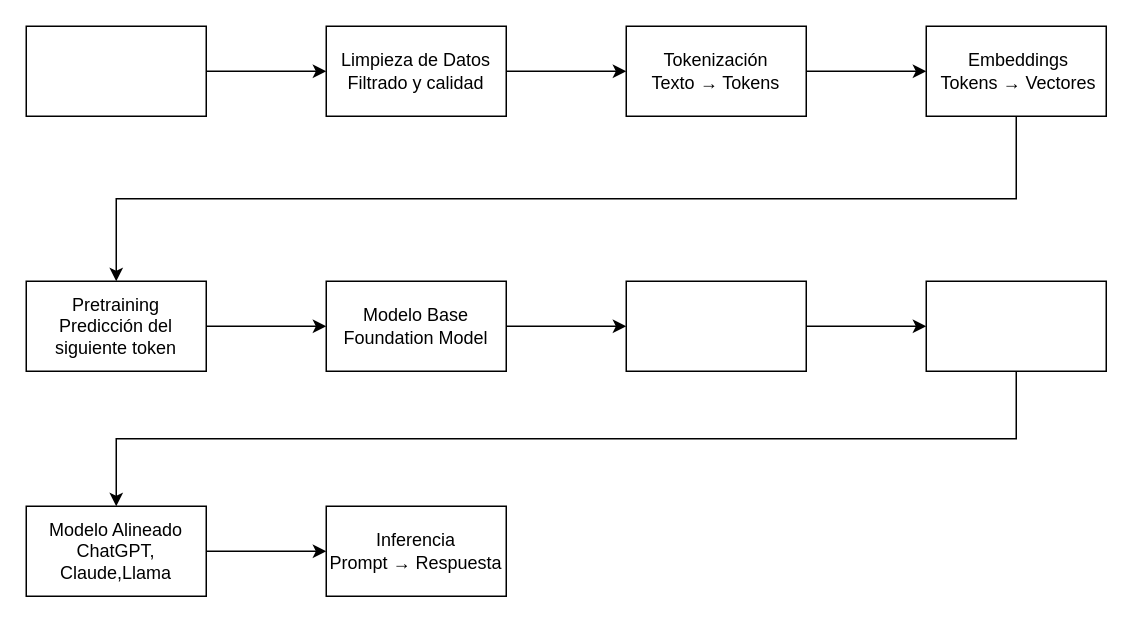
Some shapes in this 1133 by 623 pixel diagram are drawn without their labels. The shapes that lost their labels are listed below. From the top down, each one's centre as x and y in pixels, then its label:
At pixel 115 70: "Datos Masivos Libros, Web, Código".
At pixel 715 325: "Fine-Tuning Datos específicos".
At pixel 1015 325: "RLHF Human Feedback".
